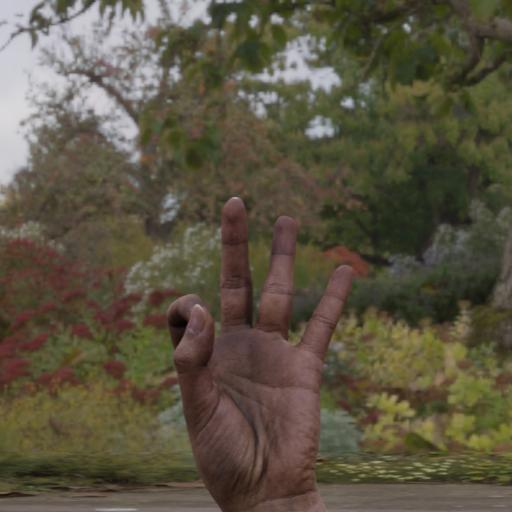F: (148, 183, 373, 512)
